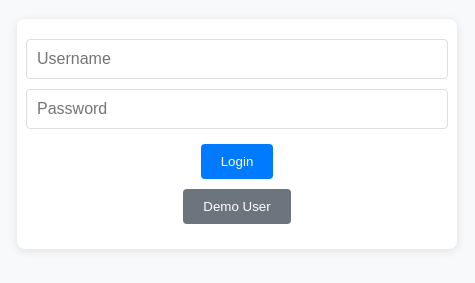
Test: LoginPage › handles network errors
In the field with placeholder "Username": (237, 59) 26,39 -> 448,79, type "johndoe"
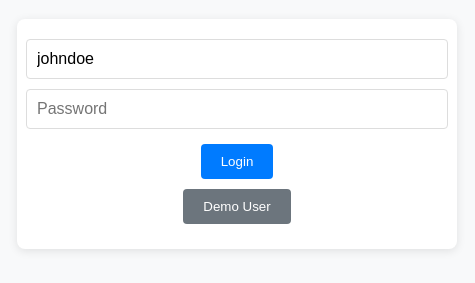
In the password field with placeholder "Password": (237, 109) 26,89 -> 448,129, type "password123"
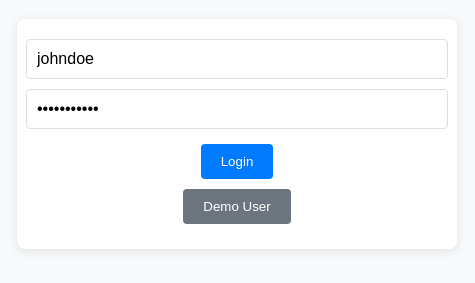
Click the button "Login": (237, 162) 201,144 -> 273,179
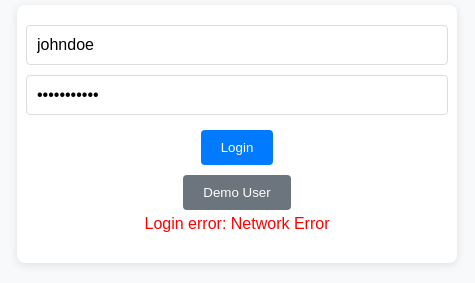
Expected: the text "Login error: Network Error" is shown, 144,215 -> 330,233
